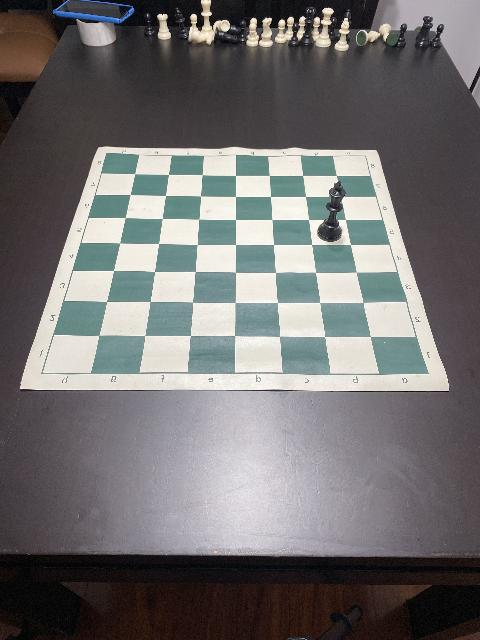black-king: (317, 180, 347, 242)
board: (19, 148, 449, 394)
